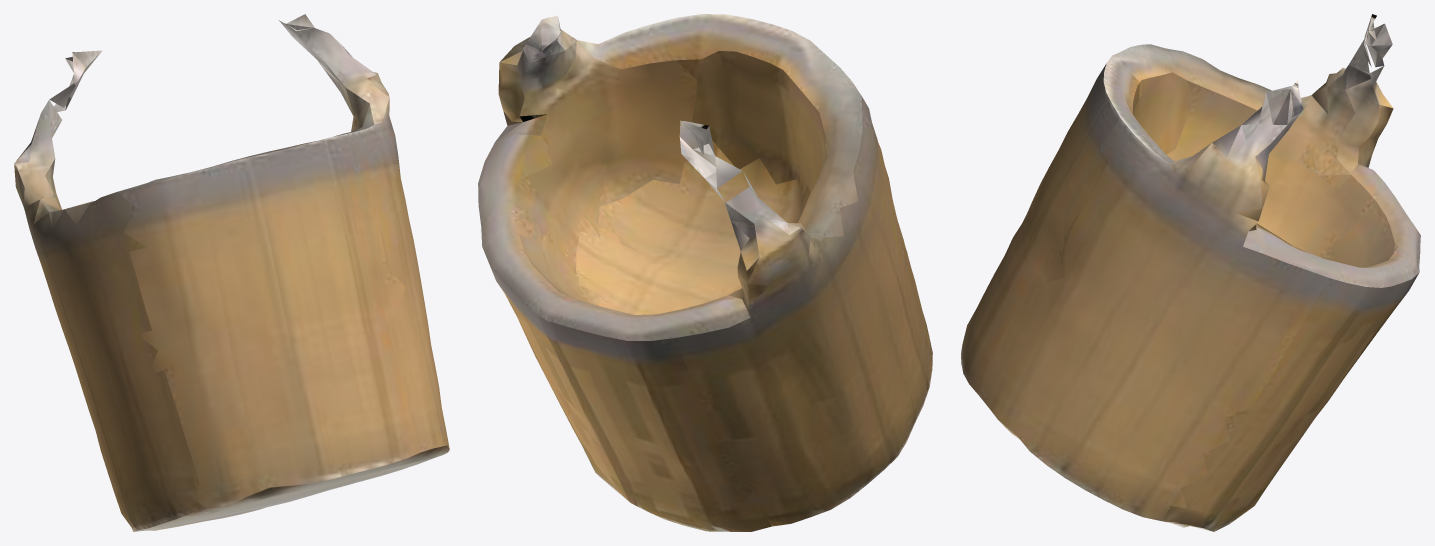
File: bucket_quad.glb
3 views of the same model, side by side, from view 1: azimuth 30°, elevation 25°; view 2: azimuth 150°, elevation 25°; view 3: azimuth 270°, elevation 25° (orthographic). The views are drawn at different scales.
Parts seen in each view (by area): view 1: world; view 2: world; view 3: world.
Boxes of the visible parts, bbox=[...] form: world: bbox=[14, 14, 449, 531]; world: bbox=[478, 14, 932, 531]; world: bbox=[961, 14, 1420, 531].
Bounding box in the file's own units: 0.6082 × 0.8209 × 0.7356.
1 material, 1 textured.
